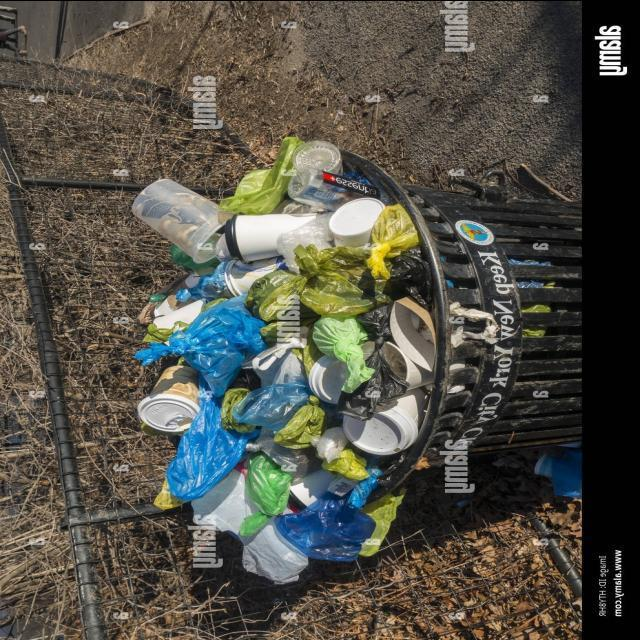Disposable: (133, 178, 229, 261), (343, 388, 426, 454), (225, 212, 316, 261), (138, 365, 199, 434), (330, 196, 385, 246), (225, 255, 288, 295), (308, 354, 346, 402), (290, 469, 335, 505), (292, 139, 341, 172)
Garbage: (133, 136, 435, 581)
Plastic_Bag: (134, 294, 266, 500), (338, 245, 432, 420), (244, 245, 376, 320), (274, 491, 375, 560), (221, 136, 303, 214), (233, 381, 326, 448), (313, 315, 374, 391), (238, 519, 308, 584), (239, 451, 292, 536), (192, 469, 257, 535), (366, 204, 419, 279), (277, 211, 335, 272)
Plastic_bottle: (289, 168, 380, 210)
